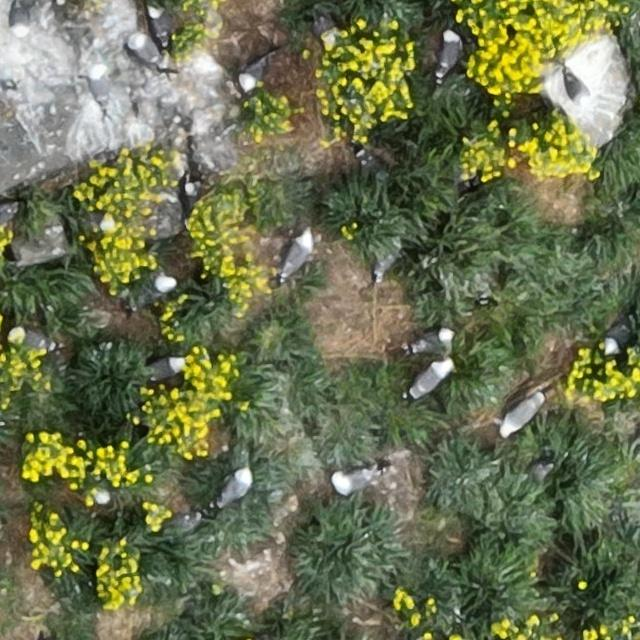umineko: (126, 27, 174, 75), (84, 62, 114, 112), (503, 396, 539, 431), (282, 234, 311, 276), (412, 363, 447, 394), (220, 469, 252, 502), (438, 30, 460, 75), (332, 469, 374, 492), (606, 318, 632, 352), (414, 329, 452, 351), (239, 57, 265, 88), (566, 74, 592, 104), (148, 358, 182, 379), (15, 329, 50, 349), (150, 7, 169, 39), (148, 274, 175, 295), (12, 6, 28, 36)
